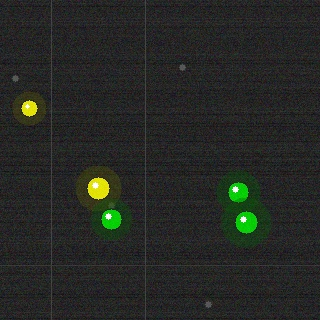green_normal: (233, 209, 259, 235), (226, 180, 250, 204), (99, 207, 123, 231)
yellow_warning: (85, 175, 111, 201), (19, 98, 39, 118)
